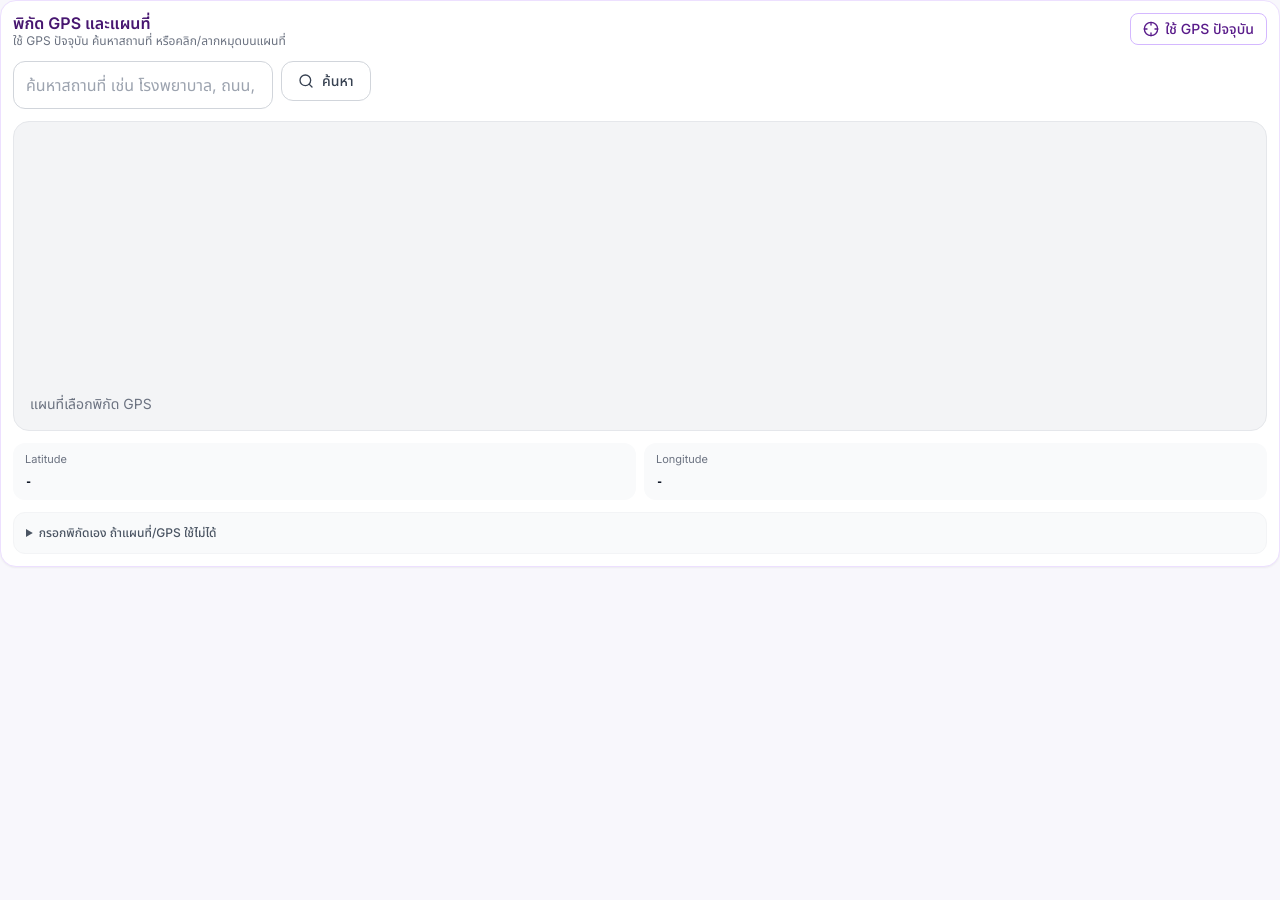
Test: GpsPicker › shows an error when manual coordinates are invalid
Click the heading "กรอกพิกัดเอง ถ้าแผนที่/GPS ใช้ไม่ได้". click: (128, 532)
box: [39, 524, 216, 540]
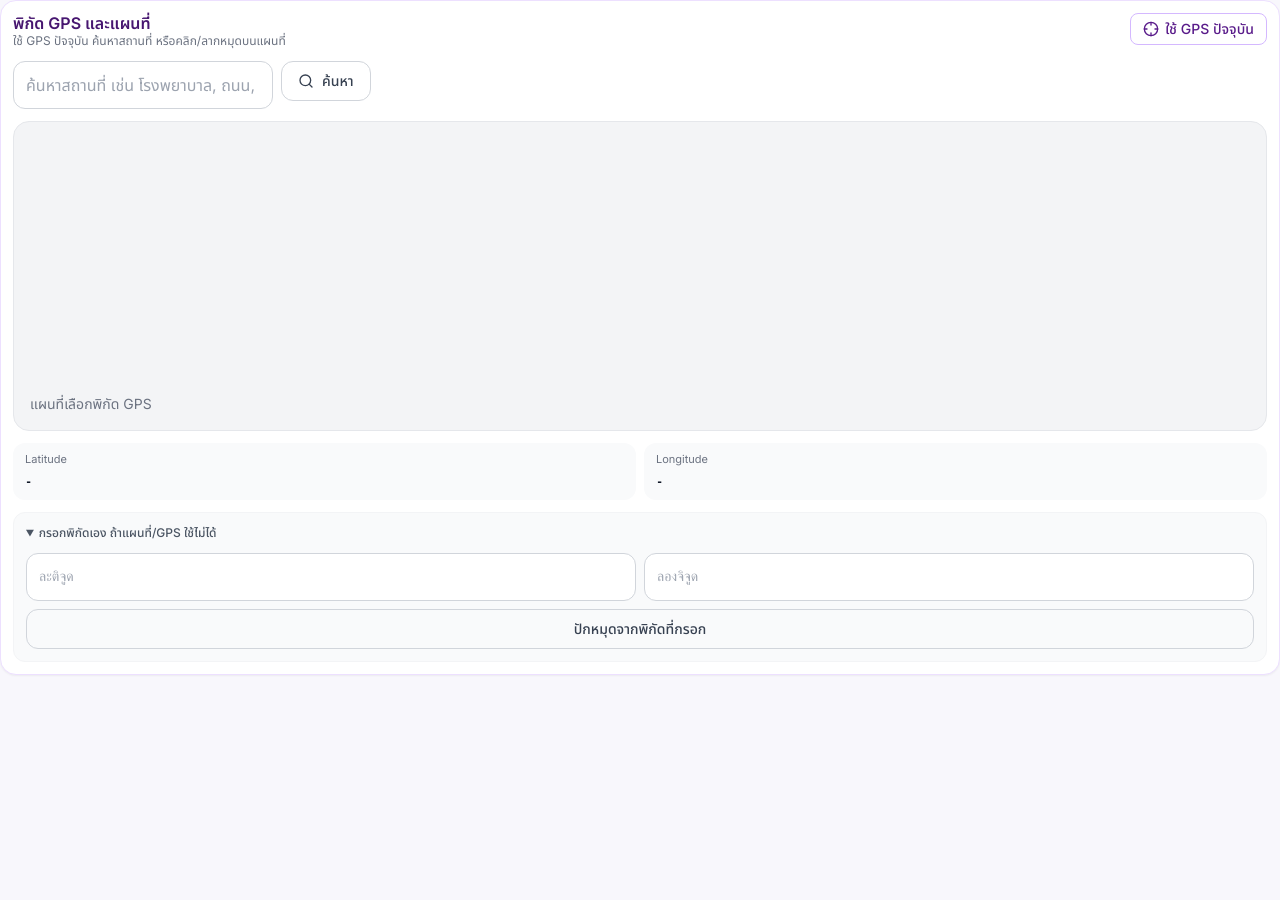
Type "999" into the field labelled "ละติจูด". click: (331, 576)
box: [26, 552, 636, 600]
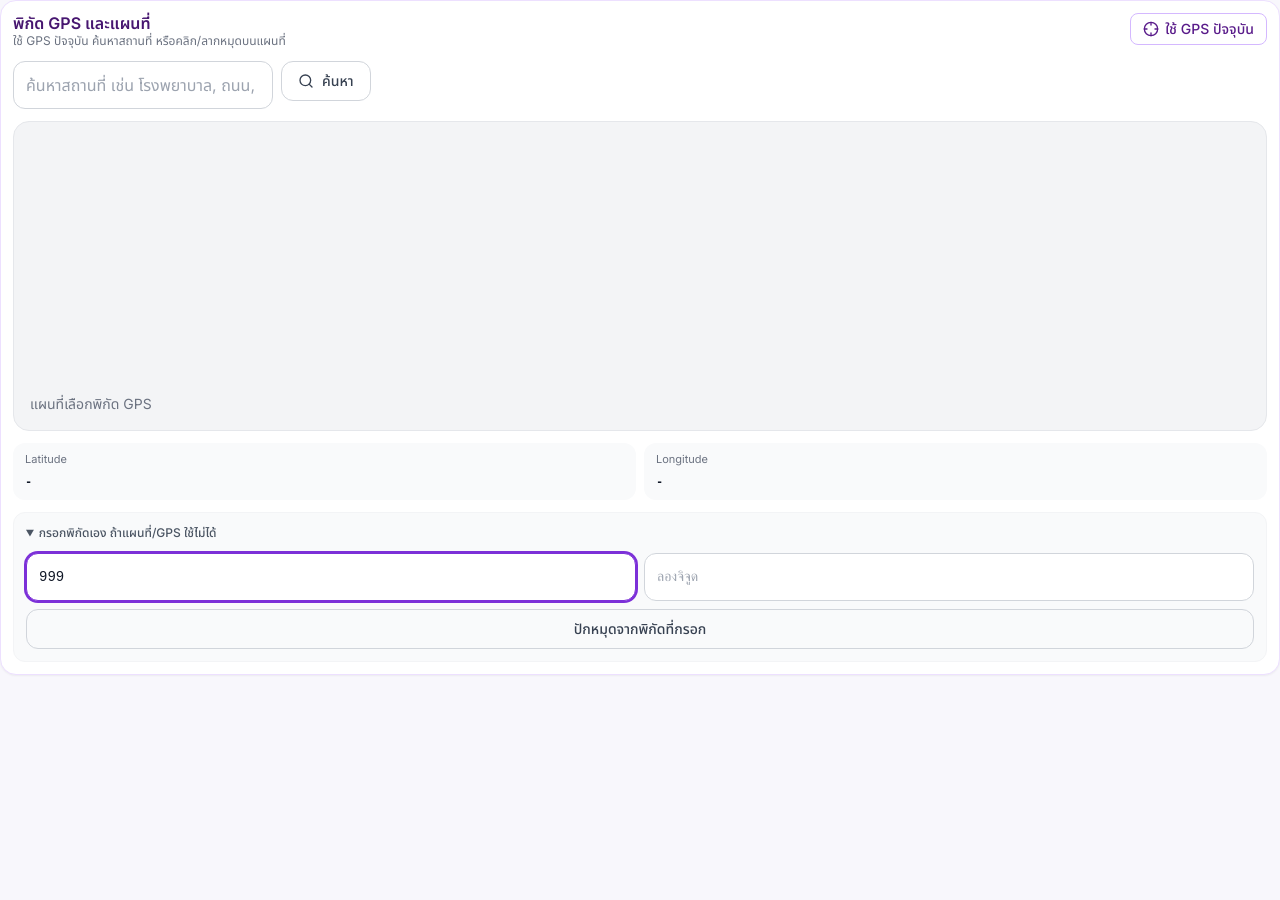
Type "100" into the field labelled "ลองจิจูด". click: (949, 576)
box: [644, 552, 1254, 600]
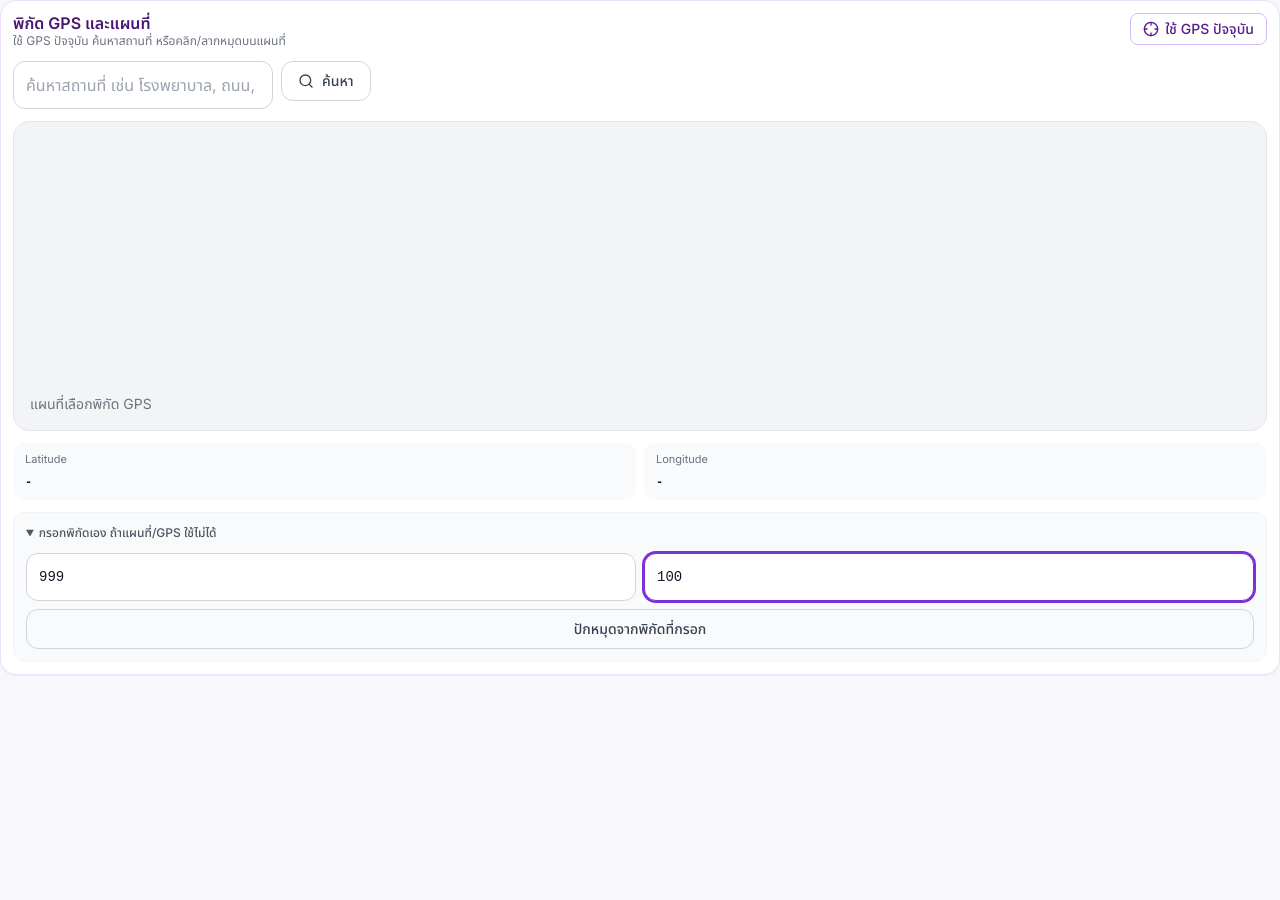
Click the button "ปักหมุดจากพิกัดที่กรอก". click: (640, 628)
box: [26, 608, 1254, 648]
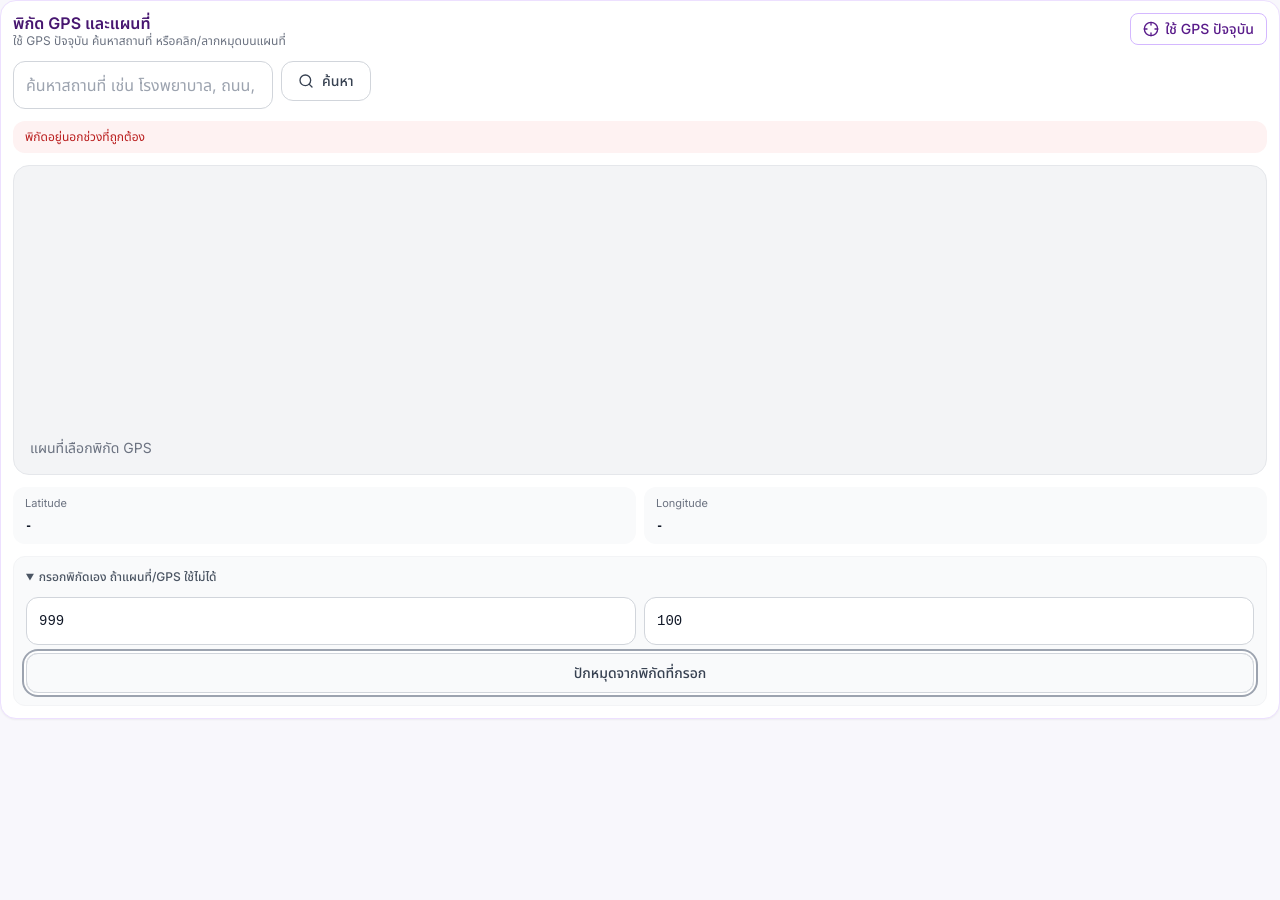
Result: the message reads "พิกัดอยู่นอกช่วงที่ถูกต้อง" at [25, 129, 145, 144]
